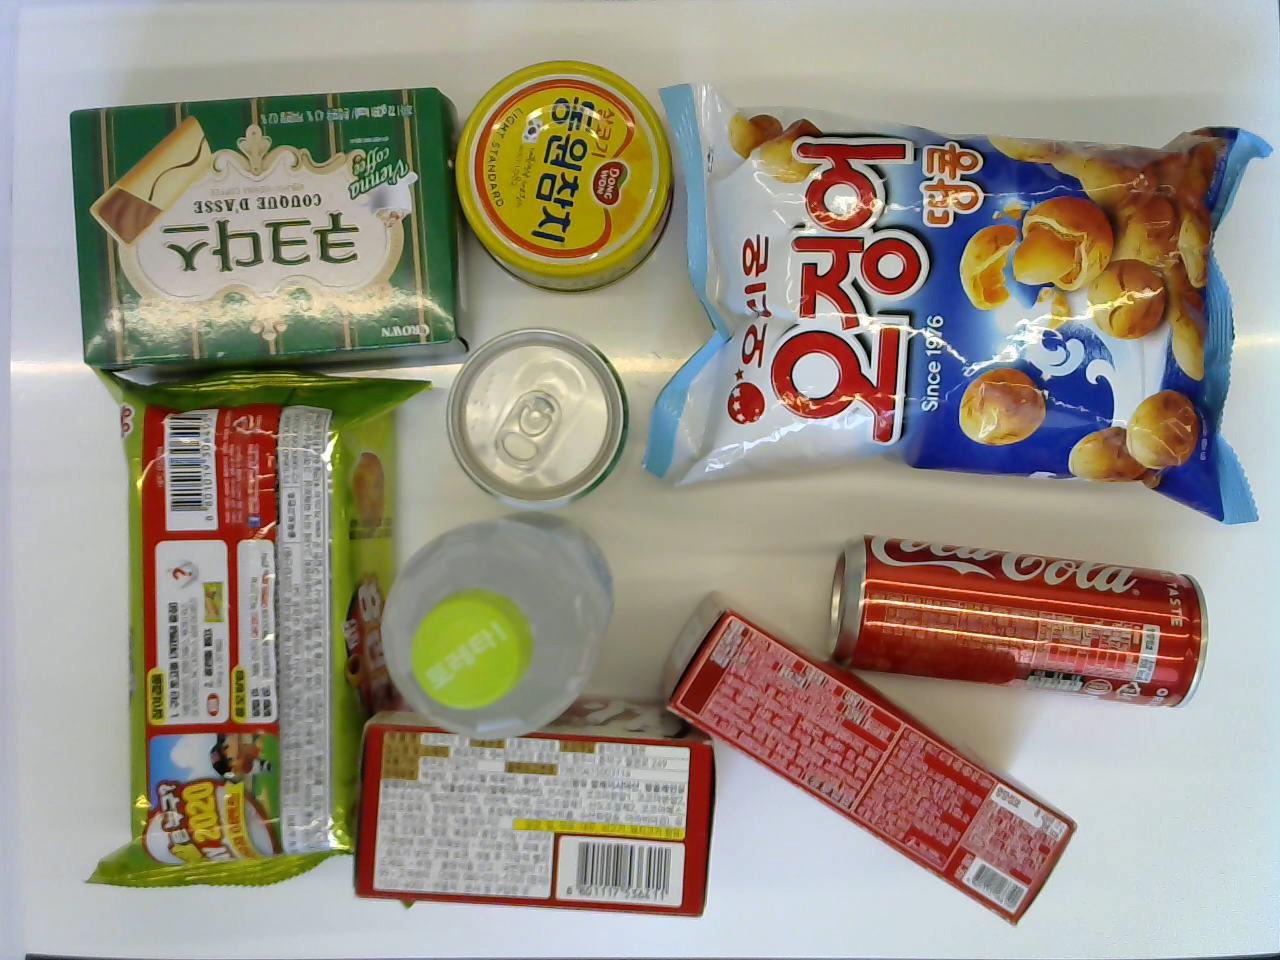chocopie: (352, 689, 720, 924)
cidar: (446, 323, 630, 514)
coke: (826, 524, 1210, 711)
couque_coffee: (62, 87, 469, 377)
couque_white: (655, 591, 1074, 928)
homerunball: (79, 367, 428, 912)
squid_peanut: (642, 77, 1275, 533)
toreta: (375, 500, 613, 743)
tuna: (459, 61, 675, 292)
